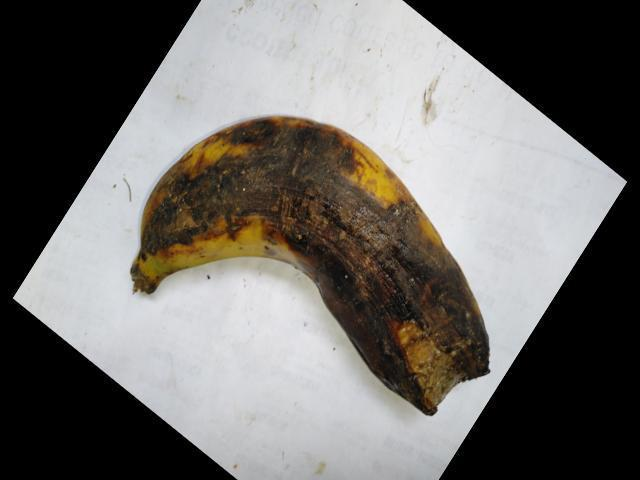rotten: (126, 126, 482, 406)
